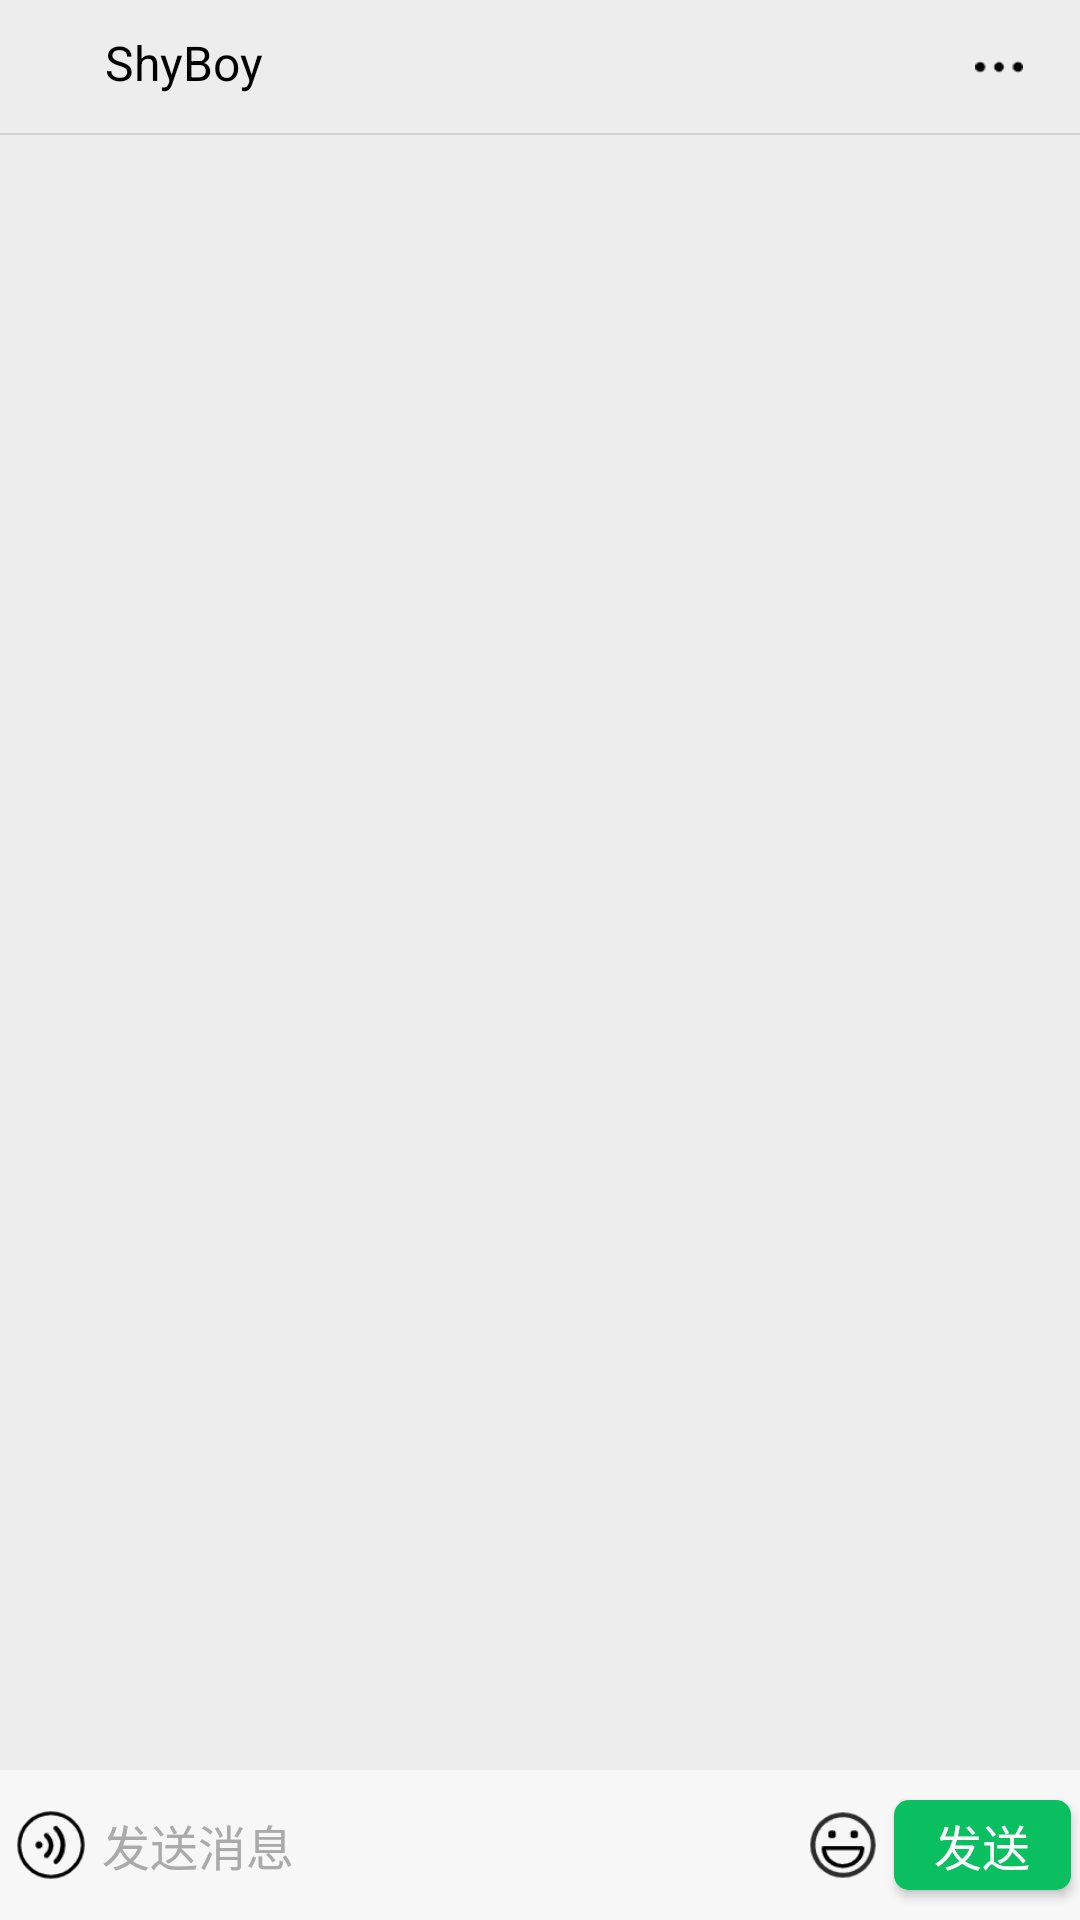

Icons on this 1080 x 1920 Android screen, each with its box as bbox(x1, y1, x2, y2):
emoji: bbox(810, 1812, 876, 1878)
open: bbox(975, 61, 1023, 73)
voice: bbox(17, 1811, 85, 1879)
